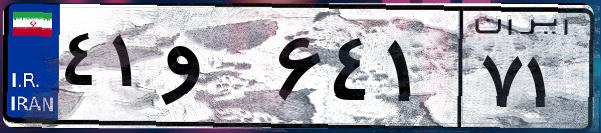1: (385, 28, 445, 110), (525, 38, 570, 115), (110, 28, 158, 98)
4: (330, 28, 385, 110), (57, 26, 110, 100)
6: (270, 28, 330, 110)
7: (475, 38, 525, 113)
و: (158, 20, 270, 120)
